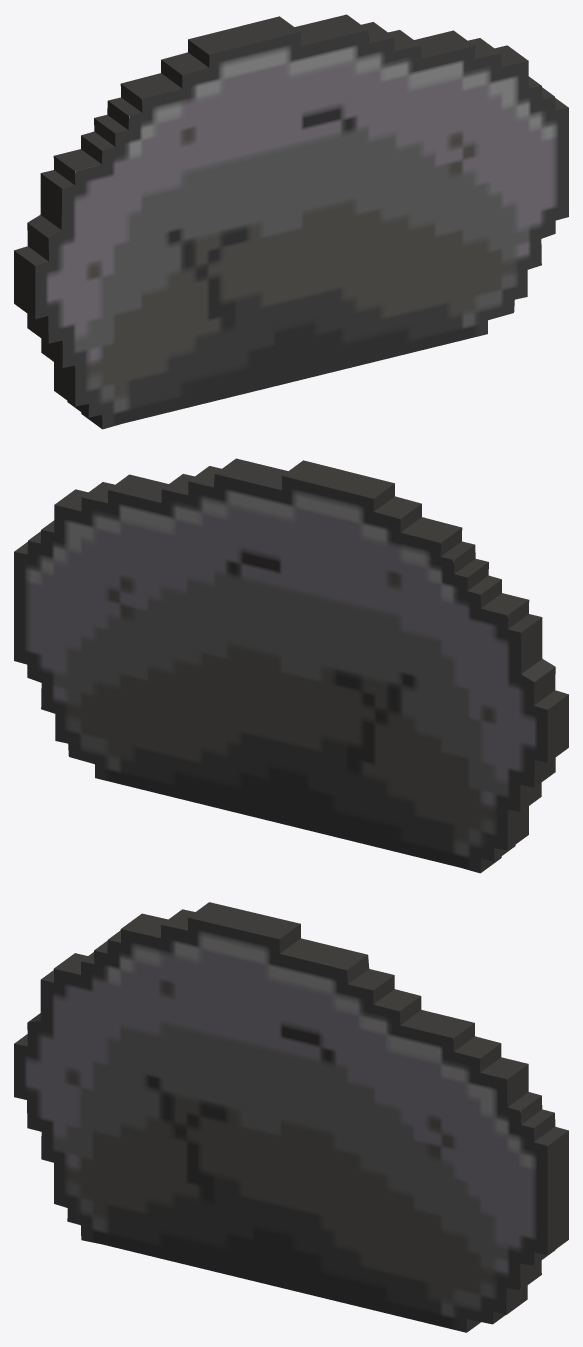
File: Rock_01.fbx
3 views of the same model, one above another, from view 1: azimuth 30°, elevation 25°; view 2: azimuth 150°, elevation 25°; view 3: azimuth 330°, elevation 25° (orthographic).
Parts seen in each view (by area): view 1: objec-3 3000px1.005; view 2: objec-3 3000px1.005; view 3: objec-3 3000px1.005.
Boxes of the visible parts, x1=… form: objec-3 3000px1.005: x1=14, y1=14, x2=568, y2=429; objec-3 3000px1.005: x1=14, y1=458, x2=568, y2=873; objec-3 3000px1.005: x1=14, y1=902, x2=568, y2=1332.
Size of the model in its own units: 72.52 by 45.34 by 5.
